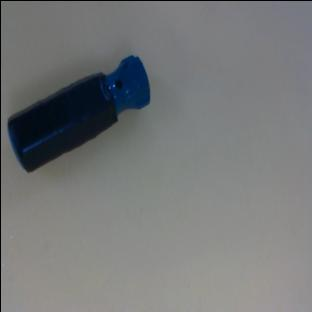part_2_bad: (0, 50, 162, 174)
